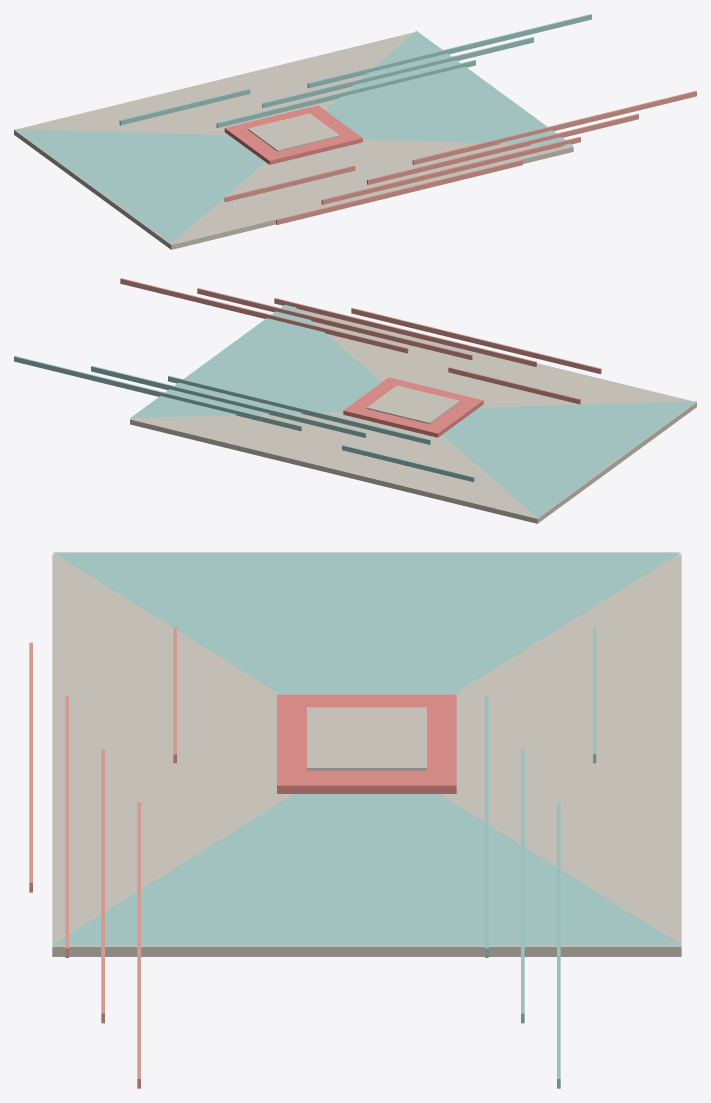
The model's file is item_87_unopened_letter.glb.
3 views of the same model, one above another, from view 1: azimuth 30°, elevation 25°; view 2: azimuth 150°, elevation 25°; view 3: azimuth 270°, elevation 25° (orthographic). The views are drawn at different scales.
Parts seen in each view (by area): view 1: I87_Env, I87_Flap0, I87_Flap1, I87_Seal, I87_SealIn, I87_Line11, I87_Line01, I87_Line12, I87_Line13, I87_Line14, I87_Line02, I87_Line03 (+2 smaller); view 2: I87_Env, I87_Flap0, I87_Flap1, I87_Seal, I87_SealIn, I87_Line11, I87_Line01, I87_Line12, I87_Line14, I87_Line02, I87_Line13, I87_Line03 (+2 smaller); view 3: I87_Env, I87_Flap1, I87_Flap0, I87_Seal, I87_SealIn, I87_Line01, I87_Line11, I87_Line02, I87_Line12, I87_Line03, I87_Line13, I87_Line14.
Part boxes in pixels (box(x1,y1,x2,y2)): I87_Env: box(14, 32, 573, 249); I87_Flap0: box(14, 129, 264, 243); I87_Flap1: box(325, 30, 573, 145); I87_Seal: box(224, 105, 362, 164); I87_SealIn: box(247, 113, 339, 151); I87_Line11: box(412, 91, 696, 165); I87_Line01: box(307, 14, 591, 88); I87_Line12: box(367, 114, 638, 184); I87_Line13: box(321, 136, 580, 204); I87_Line14: box(276, 159, 522, 224); I87_Line02: box(262, 37, 533, 108); I87_Line03: box(216, 60, 475, 127); I87_Env: box(130, 309, 696, 523); I87_Flap0: box(442, 401, 696, 517); I87_Flap1: box(130, 305, 381, 418); I87_Seal: box(343, 377, 483, 437); I87_SealIn: box(366, 385, 460, 424); I87_Line11: box(120, 278, 408, 353); I87_Line01: box(14, 356, 301, 430); I87_Line12: box(197, 288, 472, 360); I87_Line14: box(351, 308, 601, 373); I87_Line02: box(91, 366, 366, 437); I87_Line13: box(274, 298, 536, 366); I87_Line03: box(168, 376, 430, 444); I87_Env: box(52, 554, 681, 956); I87_Flap1: box(52, 794, 680, 944); I87_Flap0: box(53, 552, 680, 694); I87_Seal: box(277, 694, 456, 793); I87_SealIn: box(307, 707, 426, 770); I87_Line01: box(557, 802, 560, 1088); I87_Line11: box(137, 802, 140, 1088); I87_Line02: box(521, 749, 524, 1023); I87_Line12: box(101, 749, 104, 1023); I87_Line03: box(485, 696, 488, 957); I87_Line13: box(65, 696, 68, 957); I87_Line14: box(29, 642, 32, 892).
Bounding box in the file's own units: 0.2107 × 0.0042 × 0.1088.
